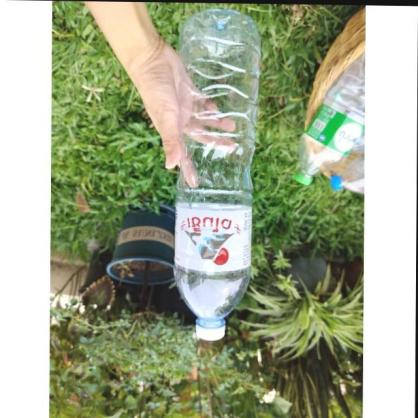bottle: (172, 7, 265, 343)
cap: (195, 320, 227, 340)
label: (174, 198, 255, 272)
